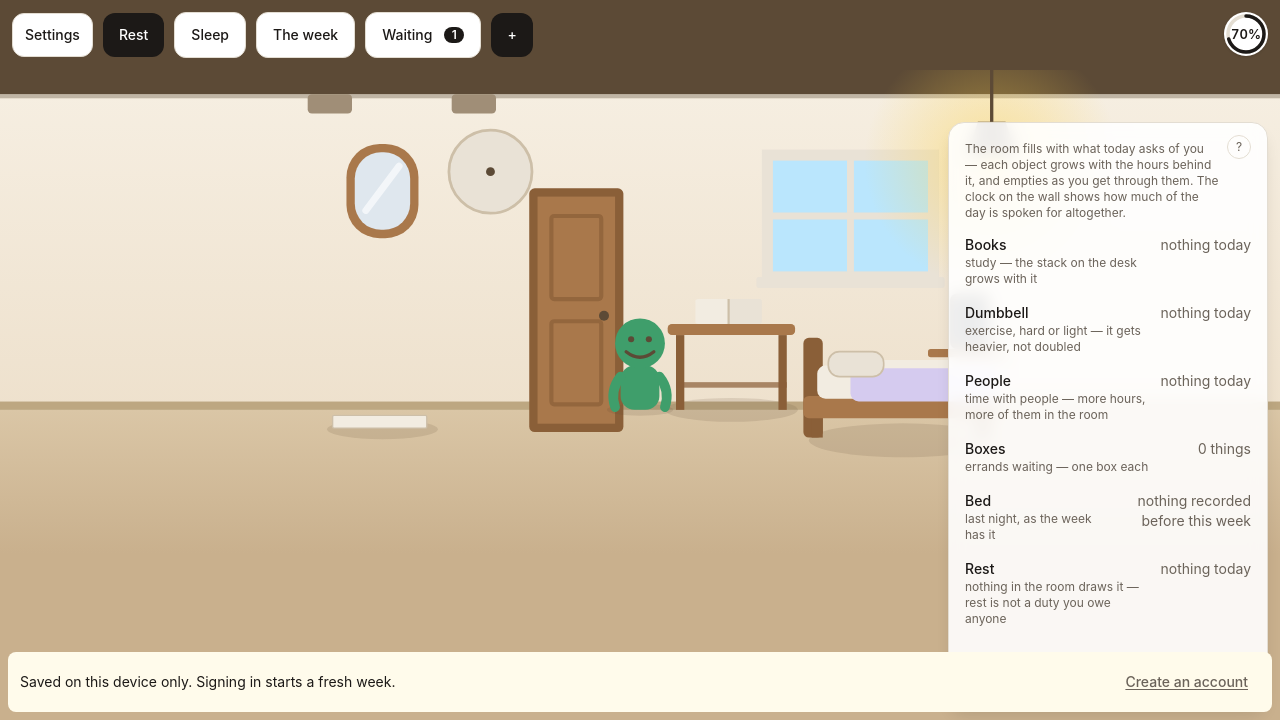
Test: RoomShell › routing › closing a block returns to the week, not the room
The image size is (1280, 720).
Click the button with test id "open-week": coordinates (306, 35) [256,12,355,58]
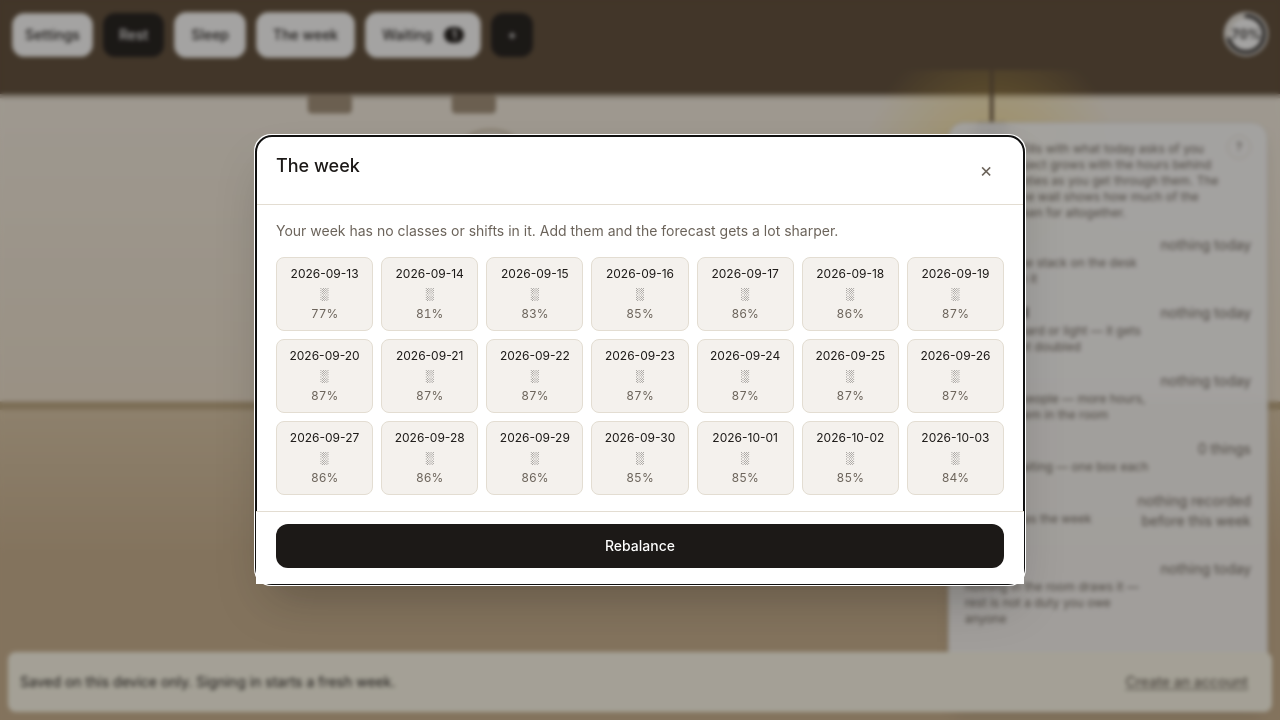
Click the button with test id "day-5": coordinates (850, 294) [802,257,899,331]
(page scrolled)
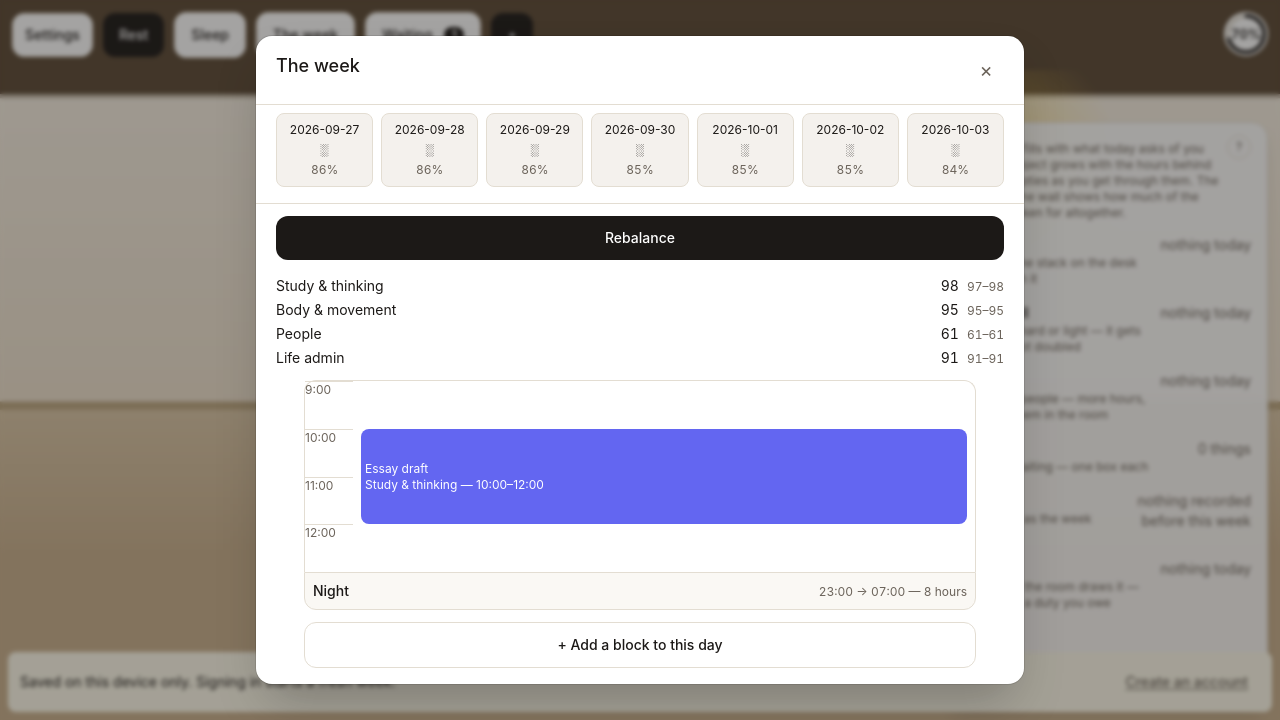
Click the button with test id "block-essay": coordinates (397, 468) [361,429,967,524]
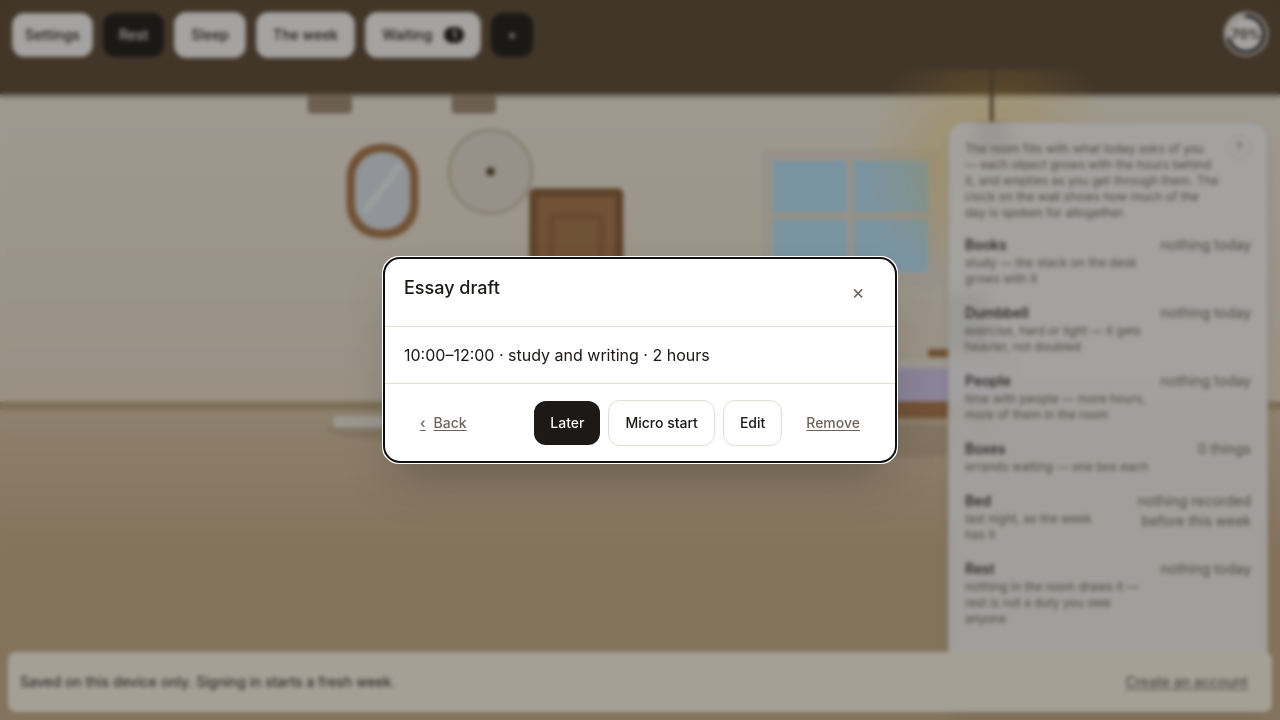
Expected: the dialog "Essay draft" is shown, [384,258,896,462]
Click the button with test id "sheet-back": coordinates (443, 423) [404,401,483,445]
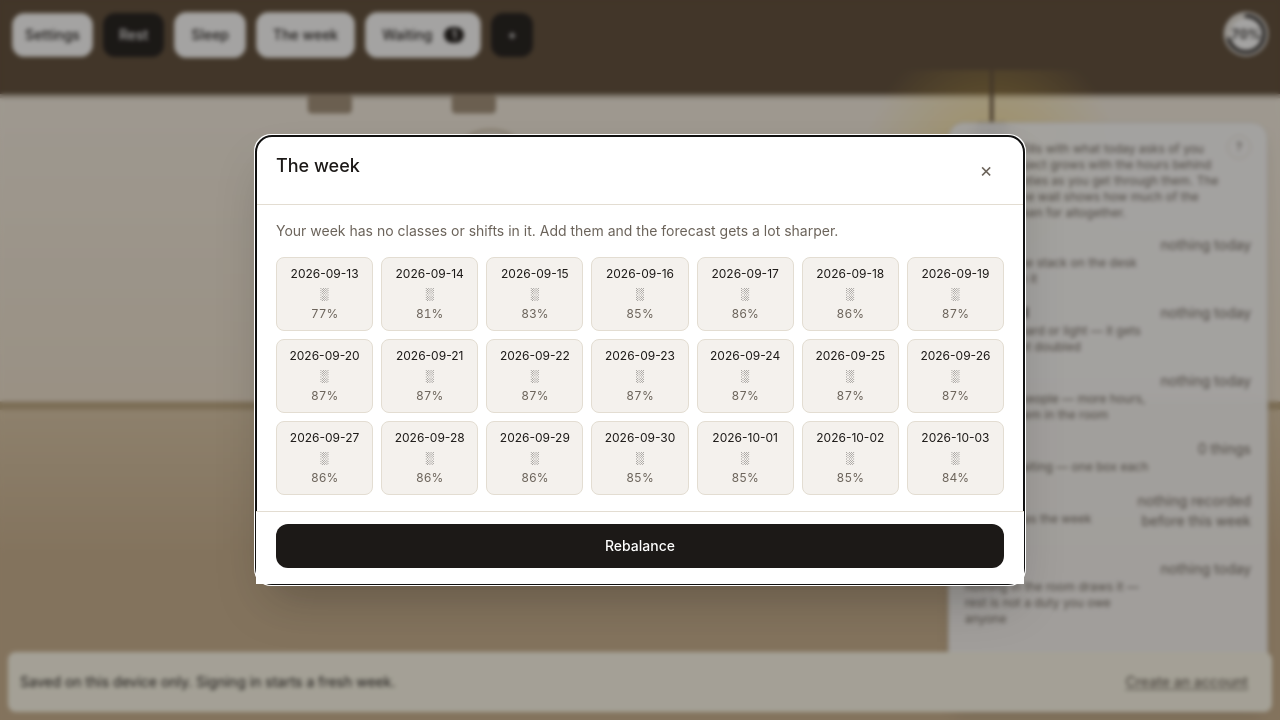
Expected: the number of dialogs is 1, [256,136,1024,584]
Expected: the heading "Essay draft" is gone
